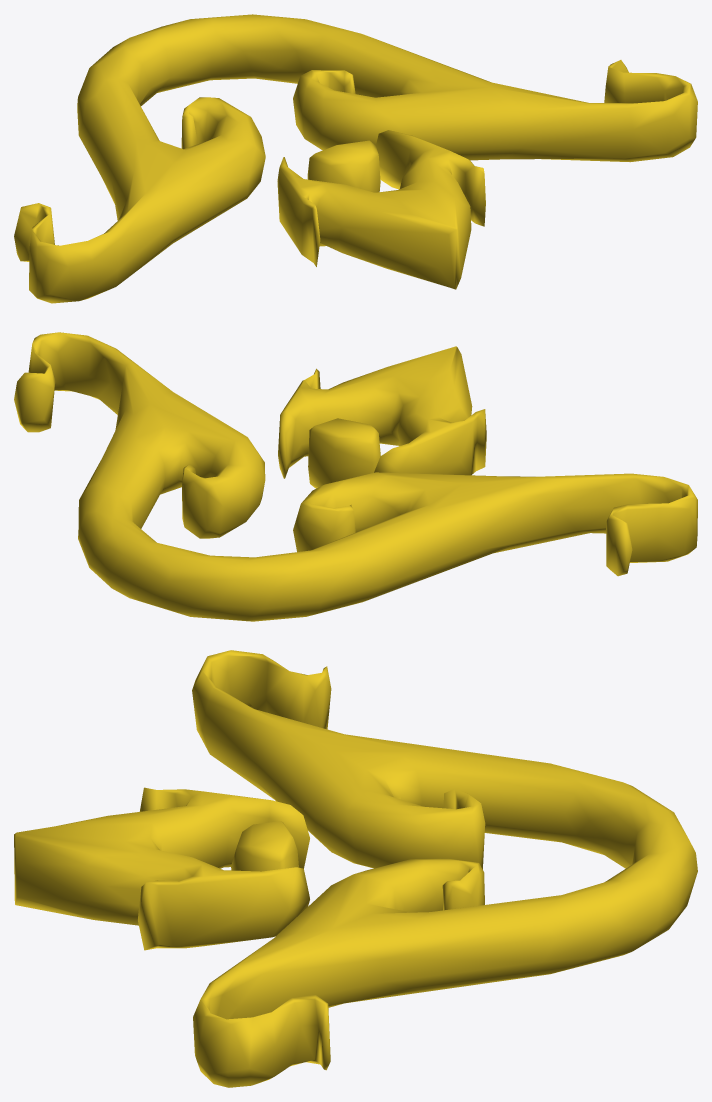
The model's file is BasicPracticeProjectile.glb.
3 views of the same model, one above another, from view 1: azimuth 30°, elevation 25°; view 2: azimuth 150°, elevation 25°; view 3: azimuth 270°, elevation 25° (orthographic). The views are drawn at different scales.
Visible parts, largest first — view 1: BasicProjectile; view 2: BasicProjectile; view 3: BasicProjectile.
Boxes of the visible parts, bbox=[...] form: BasicProjectile: bbox=[14, 14, 697, 303]; BasicProjectile: bbox=[14, 332, 697, 621]; BasicProjectile: bbox=[14, 650, 697, 1087].
Size of the model in its own units: 0.6936 by 0.0653 by 0.5337.
